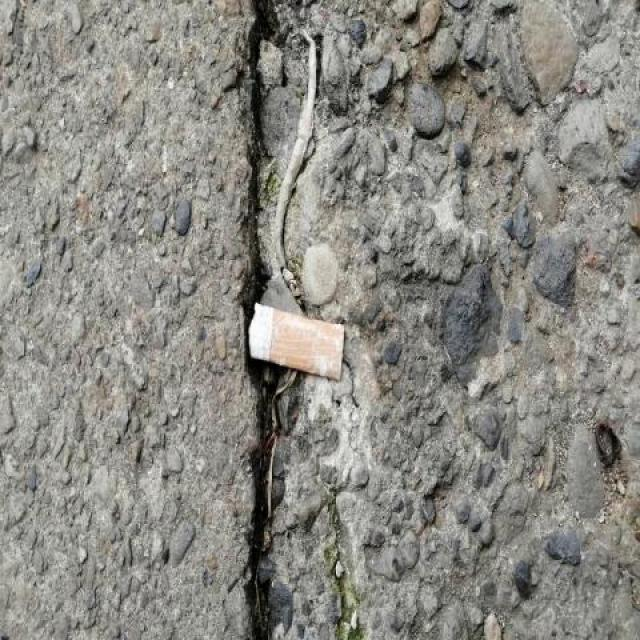non-organic waste: (245, 300, 351, 384)
